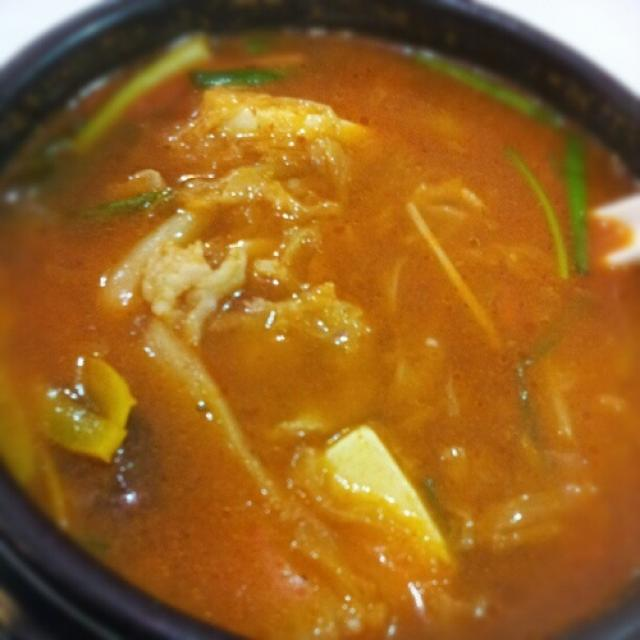汤锅炖物: (18, 26, 616, 624)
